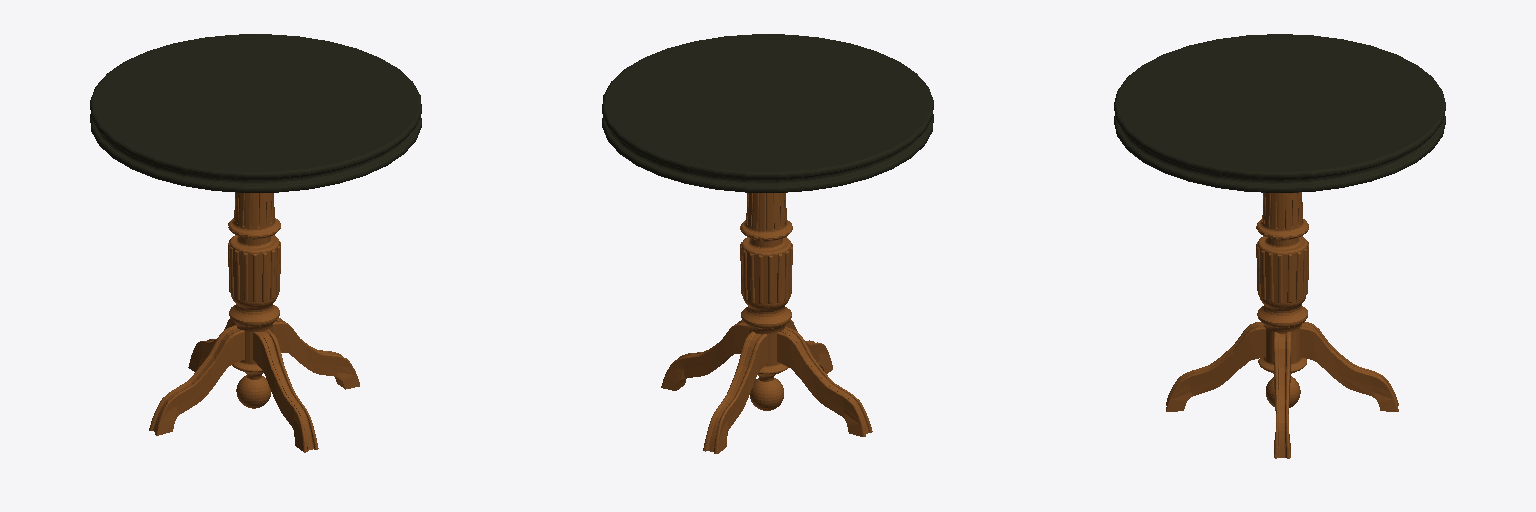
File: Table.obj
3 views of the same model, side by side, from view 1: azimuth 30°, elevation 25°; view 2: azimuth 150°, elevation 25°; view 3: azimuth 270°, elevation 25° (orthographic).
Parts seen in each view (by area): view 1: Circle.001, Cube.035_Cube.019; view 2: Circle.001, Cube.035_Cube.019; view 3: Circle.001, Cube.035_Cube.019.
Boxes of the visible parts, x1=… form: Circle.001: x1=90, y1=34, x2=421, y2=192; Cube.035_Cube.019: x1=149, y1=192, x2=359, y2=452; Circle.001: x1=602, y1=34, x2=933, y2=192; Cube.035_Cube.019: x1=661, y1=193, x2=872, y2=453; Circle.001: x1=1114, y1=34, x2=1445, y2=192; Cube.035_Cube.019: x1=1166, y1=192, x2=1398, y2=458.
Bounding box in the file's own units: 0.8254 × 0.8363 × 0.8254.